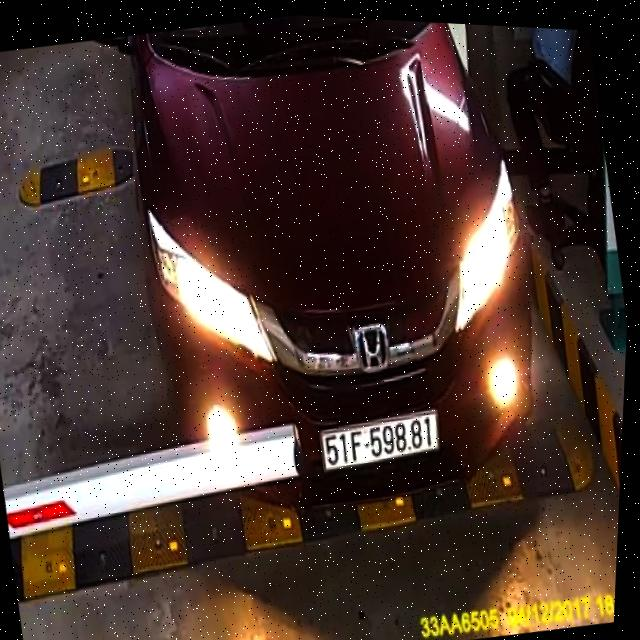car: (67, 5, 579, 554)
plate: (313, 404, 446, 479)
